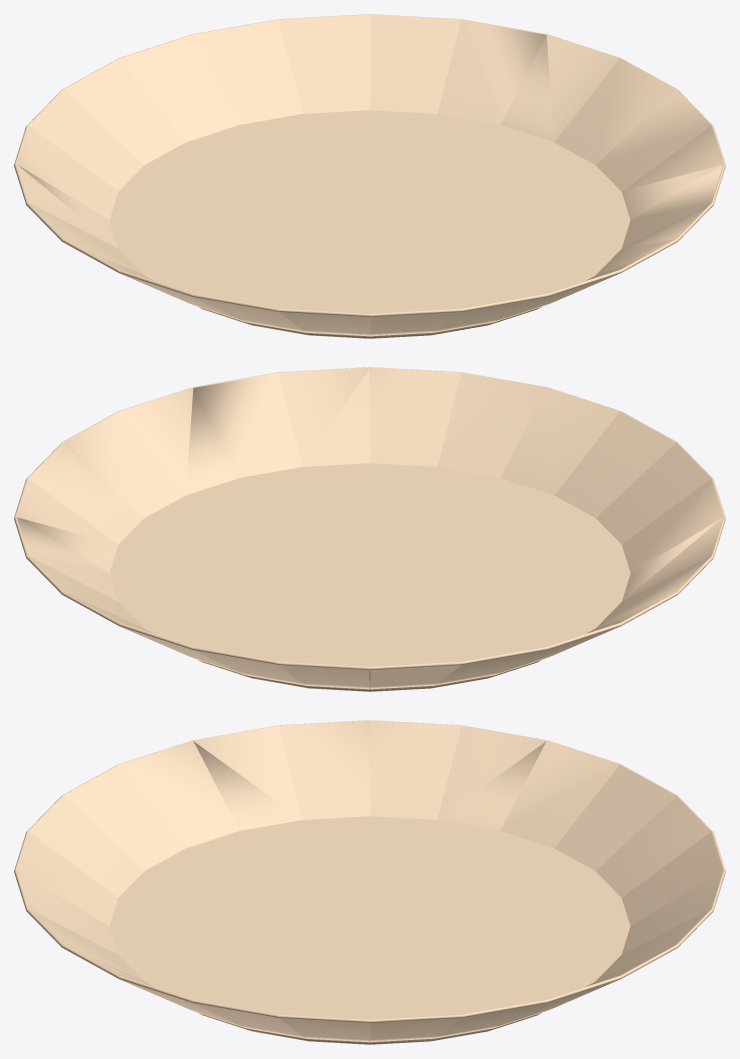
3 renders of one model, top to bottom at view 1: azimuth 30°, elevation 25°; view 2: azimuth 150°, elevation 25°; view 3: azimuth 270°, elevation 25°, orthographic.
Parts seen in each view (by area): view 1: SketchUp (×3); view 2: SketchUp (×3); view 3: SketchUp (×3).
Boxes of the visible parts, x1,y1,x2,y2 form: SketchUp (×3): [14, 14, 725, 338]; SketchUp (×3): [14, 367, 725, 691]; SketchUp (×3): [14, 720, 725, 1044].
Size of the model in its own units: 79.35 by 79.36 by 9.29.
